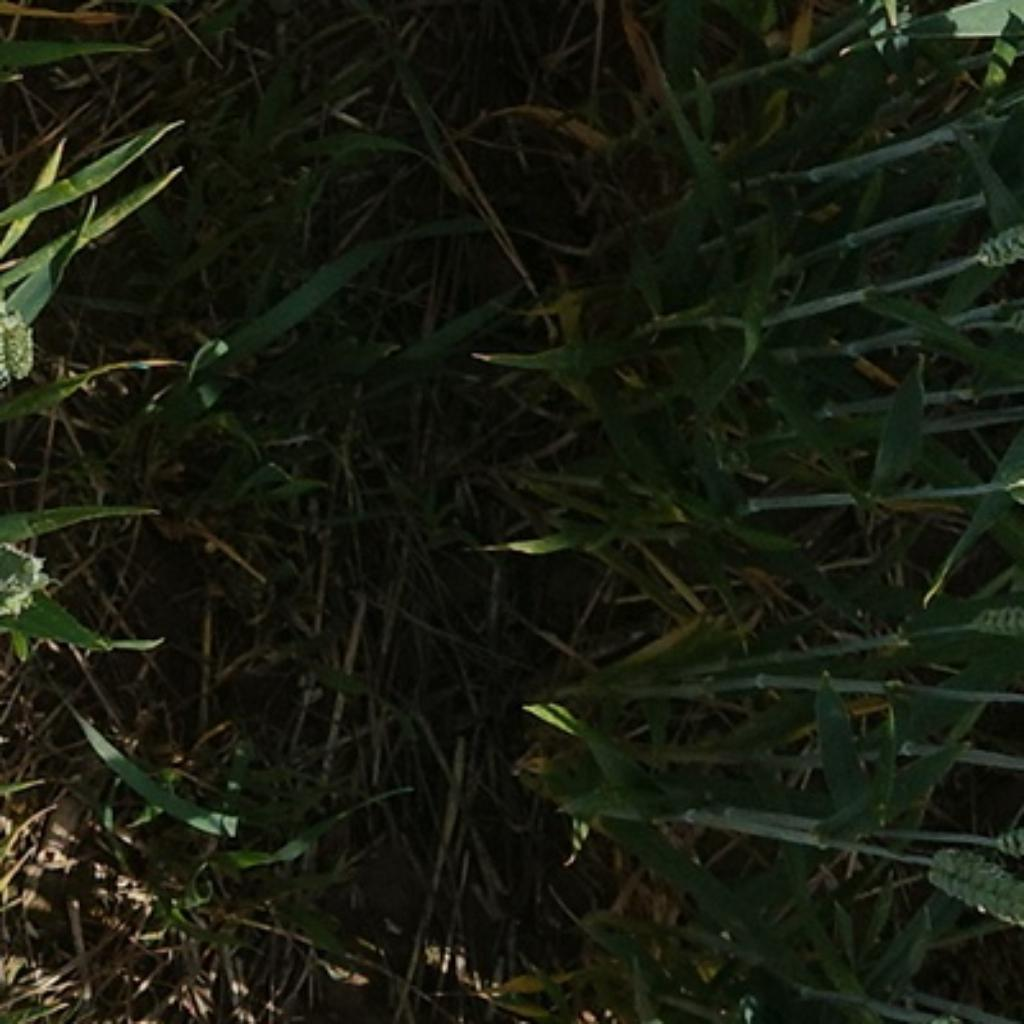0-0: (916, 839, 1024, 942), (0, 296, 56, 384), (0, 532, 56, 606), (965, 212, 1023, 275)
